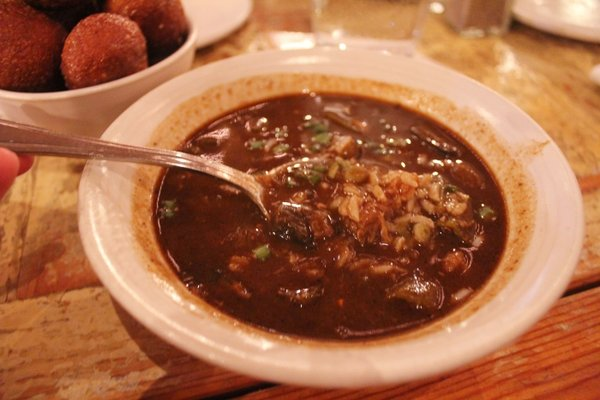salad: (0, 133, 274, 219)
sushi: (30, 48, 577, 388), (0, 0, 197, 136)
